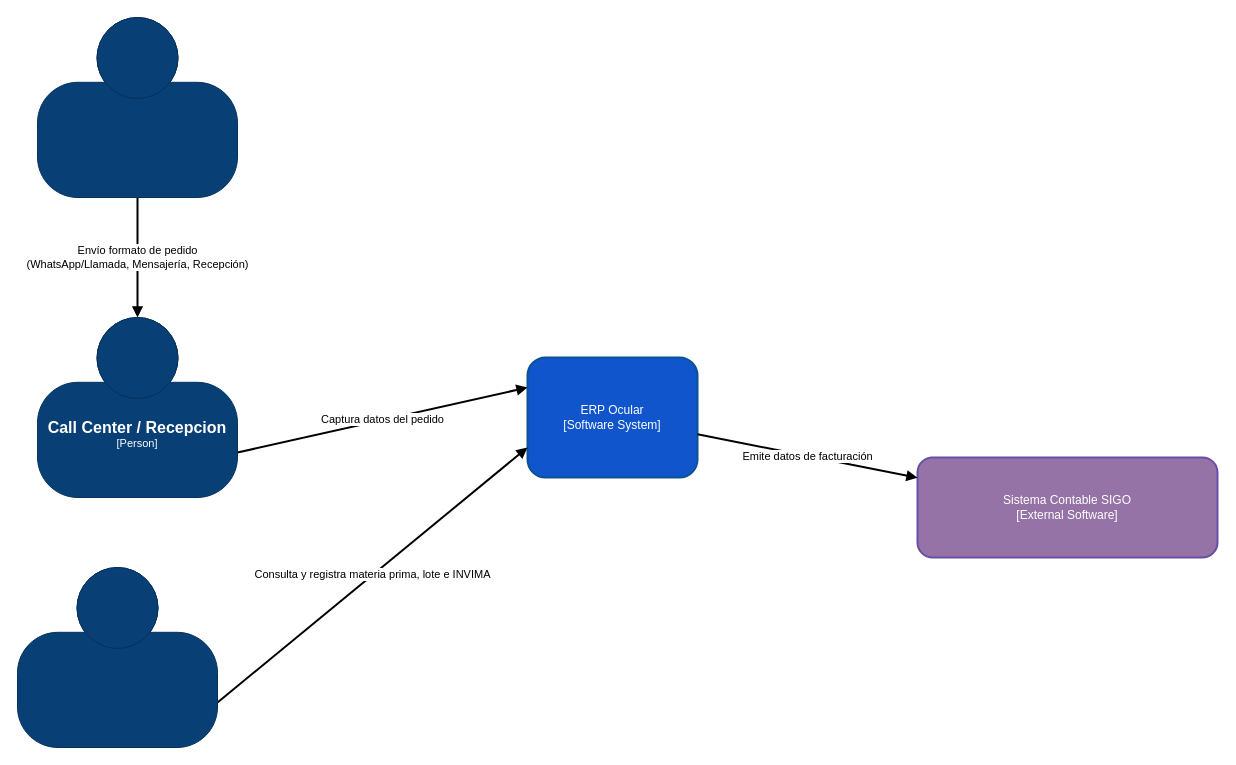
Image size: 1236x765. Some labels were removed from this diagram. Here are the shapes that lost their labels. From the top down, the box of each, then its label:
(36, 16, 238, 198): Cliente [Person] Ópticas (Clientes)
(16, 566, 218, 748): Bodega [Person] Encargado de Bodega
